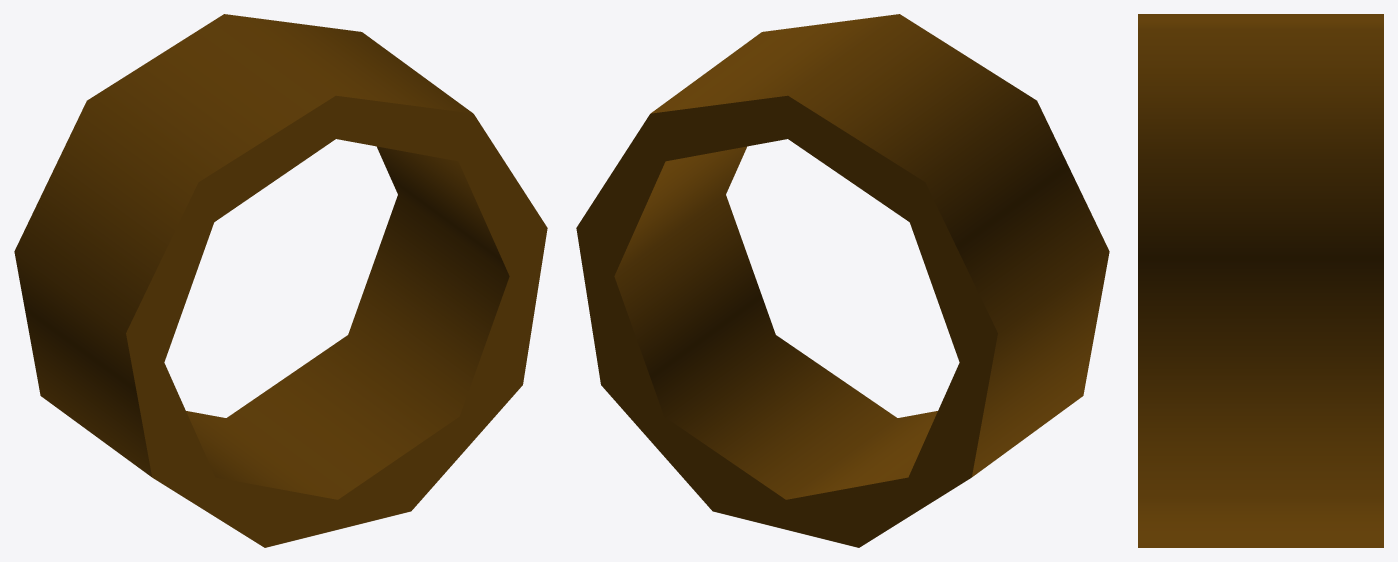
Rendered from Siete Aiguille Jours.obj.
3 views of the same model, side by side, from view 1: azimuth 30°, elevation 25°; view 2: azimuth 150°, elevation 25°; view 3: azimuth 270°, elevation 25° (orthographic). The views are drawn at different scales.
Parts seen in each view (by area): view 1: Face_3, Face_2, Face_4; view 2: Face_3, Face_1, Face_4; view 3: Face_3.
Boxes of the visible parts, box(x1,y1,x2,y2) form: Face_3: box(14, 14, 472, 476); Face_2: box(126, 95, 547, 547); Face_4: box(186, 146, 509, 499); Face_3: box(651, 14, 1109, 476); Face_1: box(576, 95, 997, 547); Face_4: box(614, 146, 937, 499); Face_3: box(1138, 14, 1383, 547).
Bounding box in the file's own units: 0.0153 × 0.015 × 0.007.
